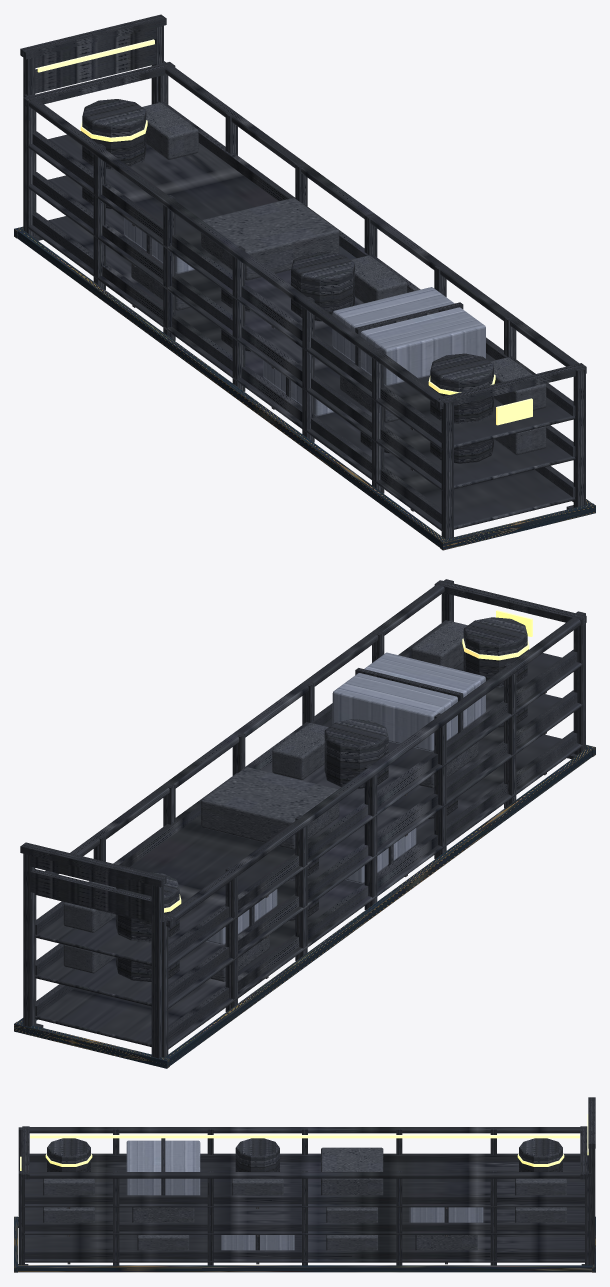
The model's file is warehouse_rack_east.glb.
3 views of the same model, one above another, from view 1: azimuth 30°, elevation 25°; view 2: azimuth 150°, elevation 25°; view 3: azimuth 270°, elevation 25° (orthographic). The views are drawn at different scales.
Parts seen in each view (by area): view 1: deck2, deck0, deck1, wrap2_1, sight_shell, crate2_2_3, beam0_-1, beam2_-1, beam1_-1, shelltoes0, capRail0, capRail2 (+24 smaller); view 2: deck2, deck0, sight_shell, deck1, wrap2_1, crate2_2_3, beam0_-1, beam1_-1, beam2_-1, shelltoes0, capRail0, capRail2 (+21 smaller); view 3: deck2, deck0, deck1, beam1_1, beam0_1, beam2_1, shelltoes2, capRail2, capRail0, wrap2_1, beam2_-1, strip (+27 smaller).
Boxes of the visible parts, bbox=[...] form: deck2: bbox=[27, 131, 574, 449]; deck0: bbox=[27, 216, 575, 531]; deck1: bbox=[27, 175, 575, 490]; wrap2_1: bbox=[332, 287, 485, 385]; sight_shell: bbox=[20, 14, 166, 227]; crate2_2_3: bbox=[201, 198, 339, 280]; beam0_-1: bbox=[32, 212, 441, 523]; beam2_-1: bbox=[32, 131, 441, 442]; beam1_-1: bbox=[32, 172, 441, 483]; shelltoes0: bbox=[17, 229, 446, 547]; capRail0: bbox=[27, 96, 443, 407]; capRail2: bbox=[163, 63, 584, 368]; deck2: bbox=[35, 649, 582, 968]; deck0: bbox=[35, 734, 582, 1049]; sight_shell: bbox=[20, 842, 166, 1058]; deck1: bbox=[35, 694, 582, 1008]; wrap2_1: bbox=[332, 652, 485, 751]; crate2_2_3: bbox=[201, 767, 339, 849]; beam0_-1: bbox=[168, 731, 577, 1042]; beam1_-1: bbox=[168, 690, 577, 1001]; beam2_-1: bbox=[168, 649, 577, 960]; shelltoes0: bbox=[164, 748, 592, 1065]; capRail0: bbox=[164, 615, 582, 926]; capRail2: bbox=[45, 581, 446, 874]; deck2: bbox=[23, 1162, 586, 1207]; deck0: bbox=[23, 1235, 586, 1262]; deck1: bbox=[23, 1207, 586, 1234]; beam1_1: bbox=[25, 1222, 584, 1231]; beam0_1: bbox=[25, 1250, 584, 1258]; beam2_1: bbox=[25, 1195, 584, 1203]; shelltoes2: bbox=[17, 1265, 592, 1272]; capRail2: bbox=[21, 1172, 588, 1178]; capRail0: bbox=[23, 1127, 586, 1133]; wrap2_1: bbox=[126, 1140, 200, 1195]; beam2_-1: bbox=[29, 1153, 580, 1162]; strip: bbox=[30, 1134, 579, 1138].
Bounding box in the file's own units: 1.46 × 1.7 × 7.09.
9 materials, 7 textured.
